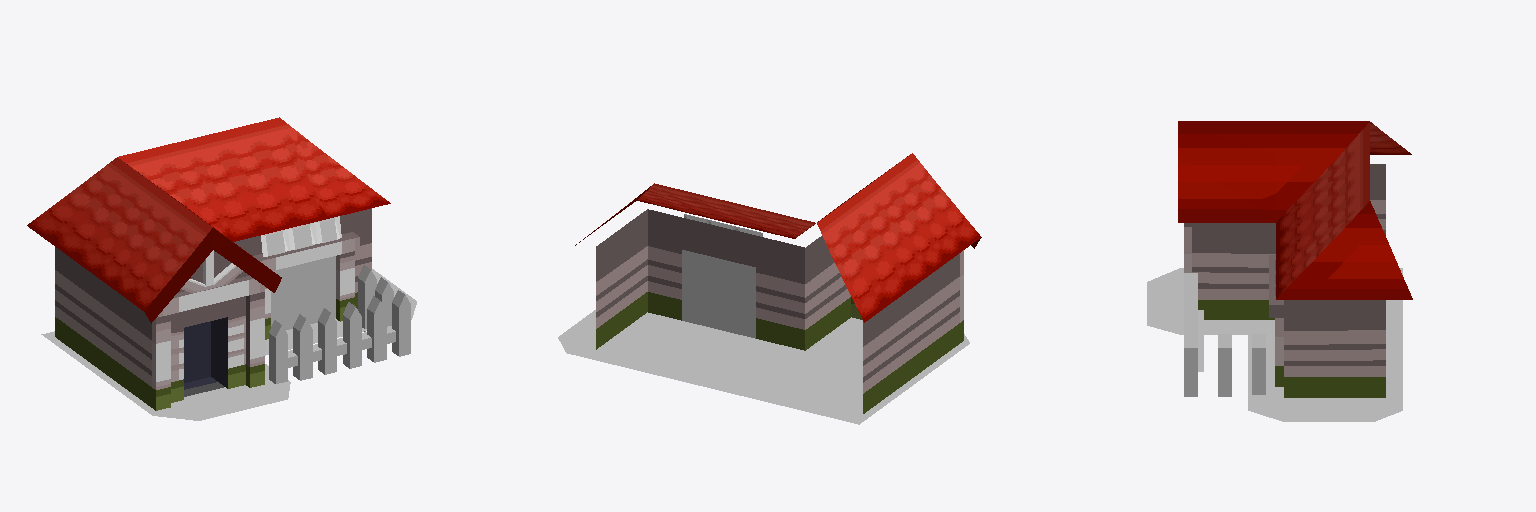
3 renders of one model, left to right at view 1: azimuth 30°, elevation 25°; view 2: azimuth 150°, elevation 25°; view 3: azimuth 270°, elevation 25°, orthographic.
Visible parts, largest first — view 1: PokémonDayCare; view 2: PokémonDayCare; view 3: PokémonDayCare.
Part boxes in pixels (left/top/right/bottom): PokémonDayCare: left=27, top=117, right=416, bottom=420; PokémonDayCare: left=558, top=153, right=981, bottom=424; PokémonDayCare: left=1147, top=121, right=1412, bottom=421.
Bounding box in the file's own units: 57.2 × 29.83 × 40.51.
5 materials, 2 textured.